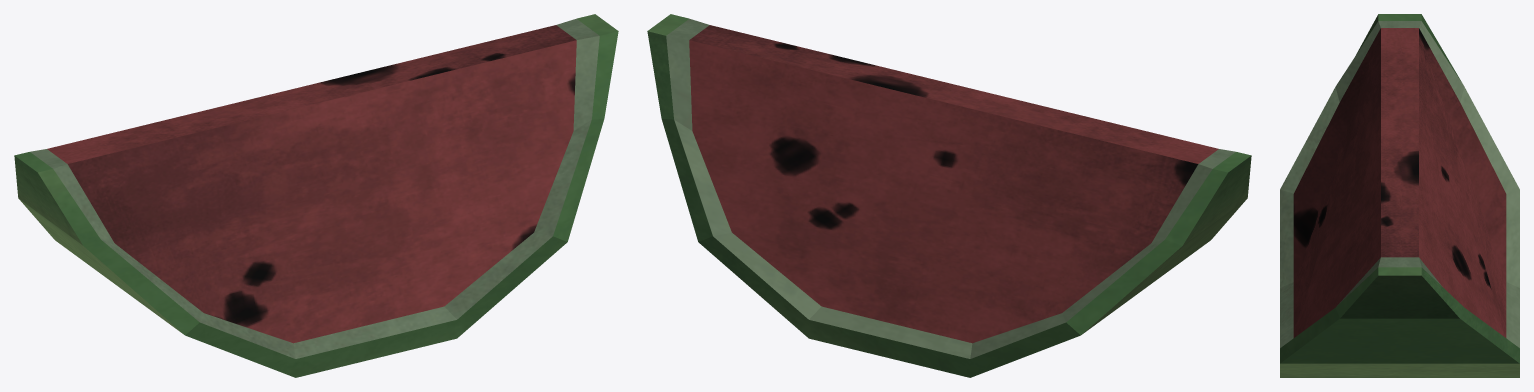
File: Watermelon.fbx
3 renders of one model, left to right at view 1: azimuth 30°, elevation 25°; view 2: azimuth 150°, elevation 25°; view 3: azimuth 270°, elevation 25°, orthographic. The views are drawn at different scales.
Visible parts, largest first — view 1: Sandia2, Sindria, Sandia1; view 2: Sandia2, Sindria, Sandia1; view 3: Sandia2, Sindria, Sandia1.
Boxes of the visible parts, box(x1,y1,x2,y2) form: Sandia2: box(47, 25, 576, 343); Sindria: box(14, 14, 618, 377); Sandia1: box(30, 18, 599, 358); Sandia2: box(689, 25, 1218, 343); Sindria: box(647, 14, 1251, 377); Sandia1: box(666, 18, 1235, 358); Sandia2: box(1293, 28, 1506, 337); Sindria: box(1280, 14, 1519, 377); Sandia1: box(1280, 21, 1519, 347).
Bounding box in the file's own units: 198 × 70.35 × 76.72.
Materials: 3 (3 with a texture image).
